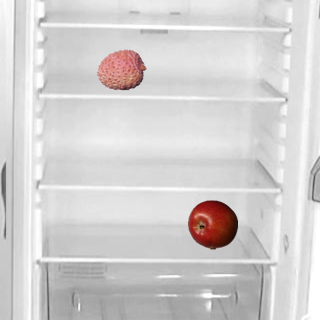Apple Braeburn: (187, 199, 237, 249)
Lychee: (96, 44, 146, 94)
